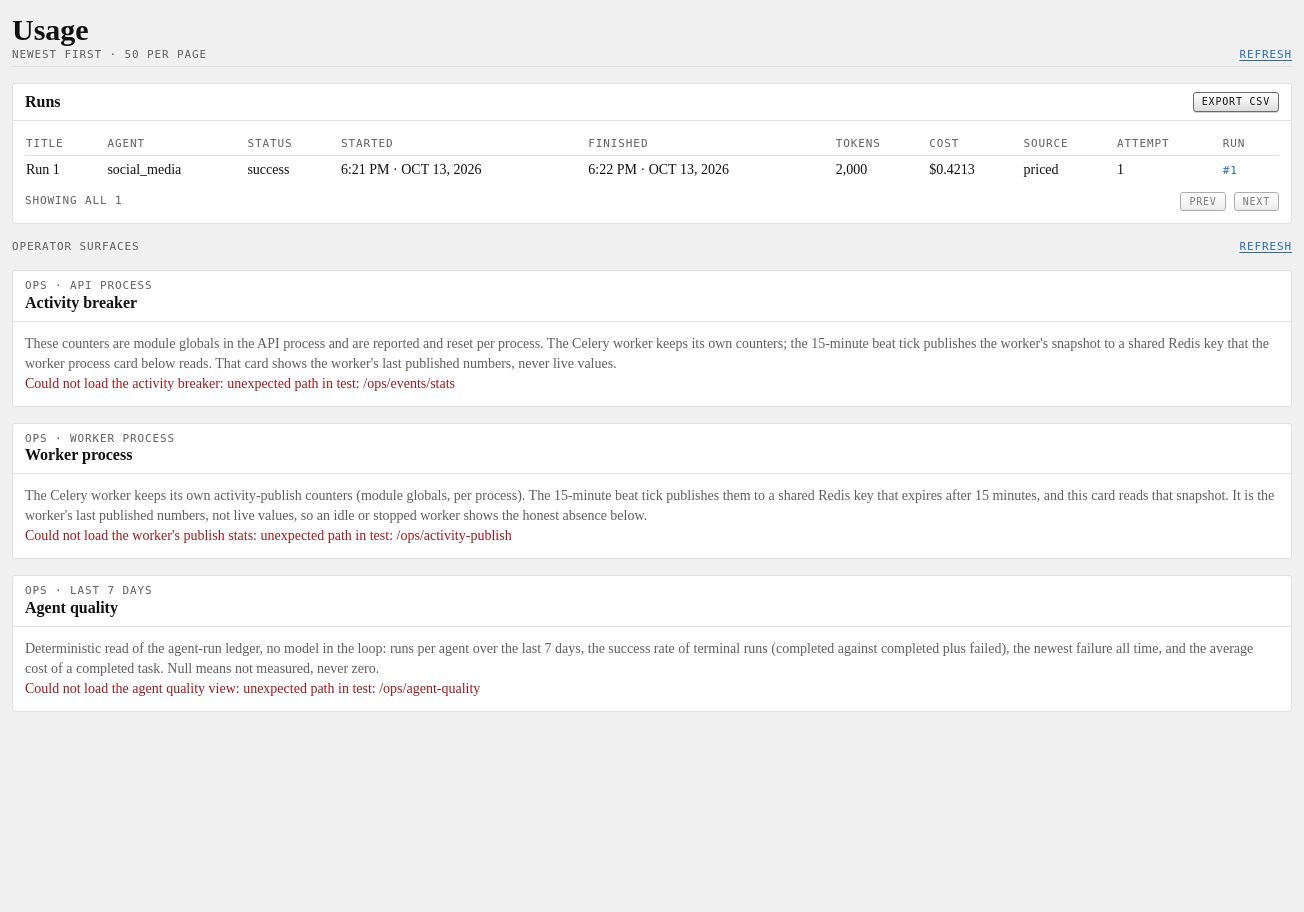
Scenario: Usage — Export really downloads via the API › a refused export surfaces ApiError.display — never a dead button
Expected: the table is shown, [25,133,1279,184]
Click the button with test id "usage-export" at (1236, 102), box [1193,92,1279,112]
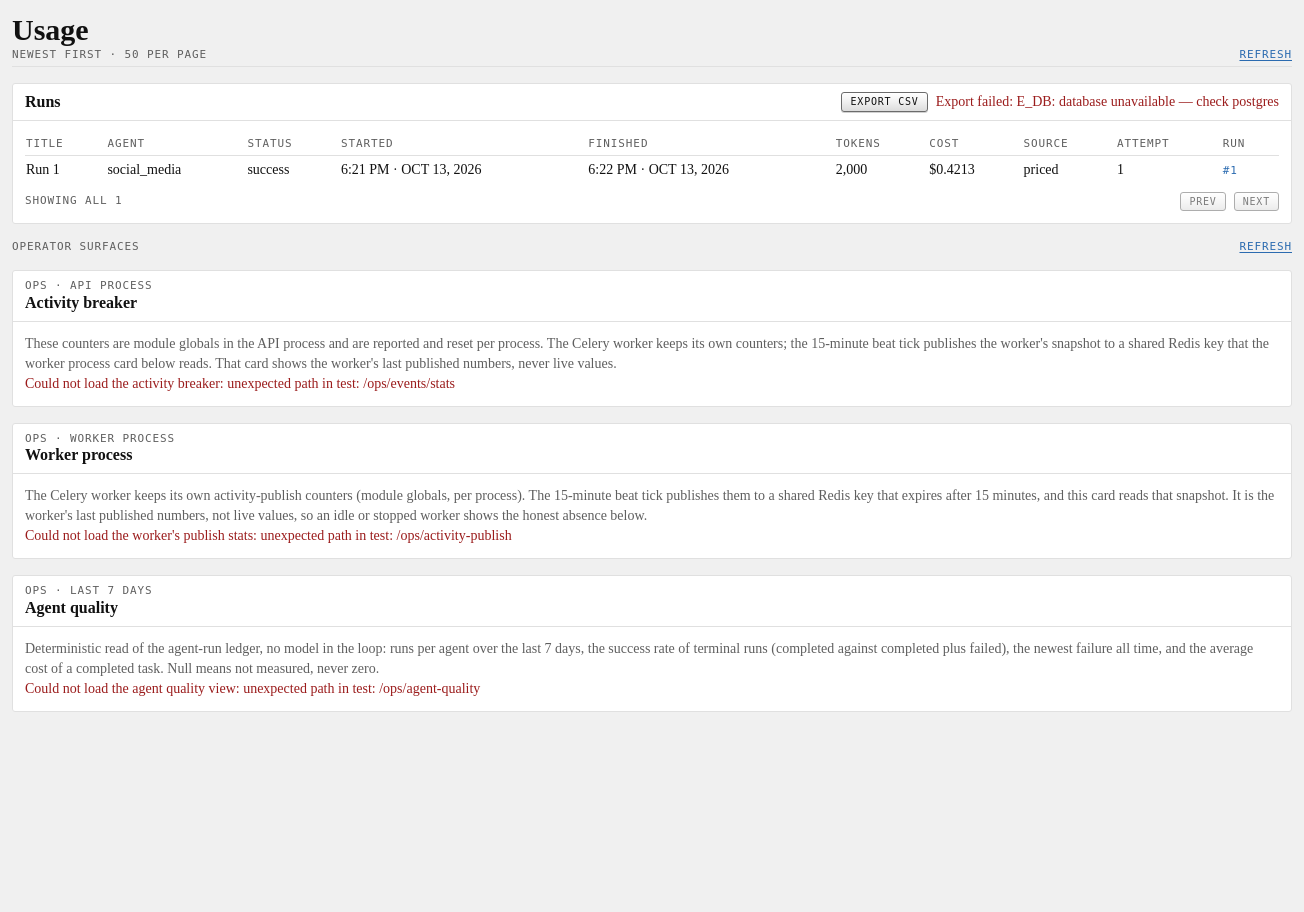
Now the message with test id "usage-export-error" shows "E_DB: database unavailable — check postgres", box [1017,94,1279,109]
